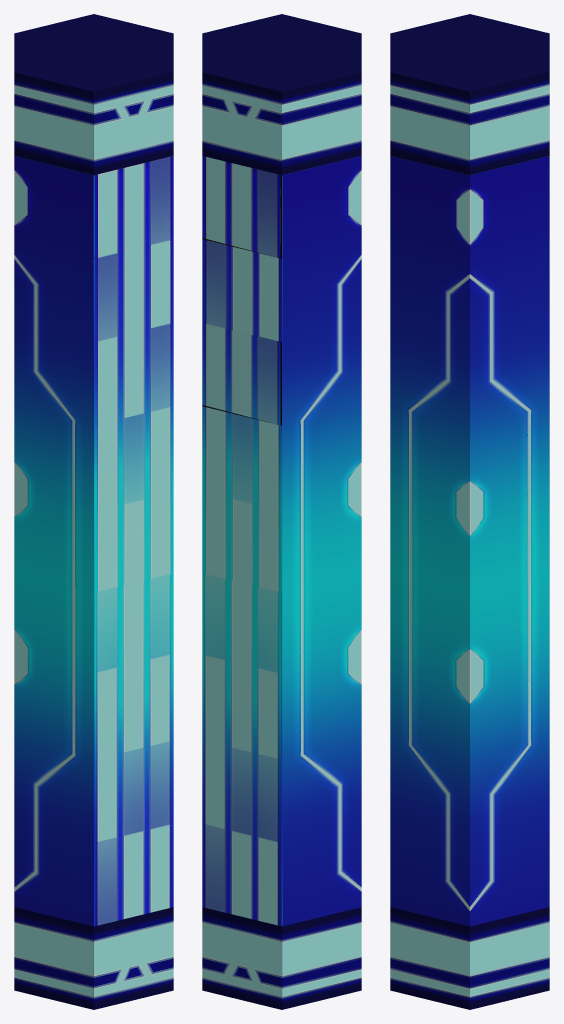
File: PLAG_SimpleBldg_11.obj
The picture shows the model from 3 angles, left to right: view 1: azimuth 30°, elevation 25°; view 2: azimuth 150°, elevation 25°; view 3: azimuth 270°, elevation 25°; orthographic projection.
Parts seen in each view (by area): view 1: PLAG_SimpleBldg_11; view 2: PLAG_SimpleBldg_11; view 3: PLAG_SimpleBldg_11.
Boxes of the visible parts, x1,y1,x2,y2 form: PLAG_SimpleBldg_11: [14, 14, 173, 1009]; PLAG_SimpleBldg_11: [202, 14, 361, 1009]; PLAG_SimpleBldg_11: [390, 14, 549, 1009].
Bounding box in the file's own units: 200 × 1100 × 173.
